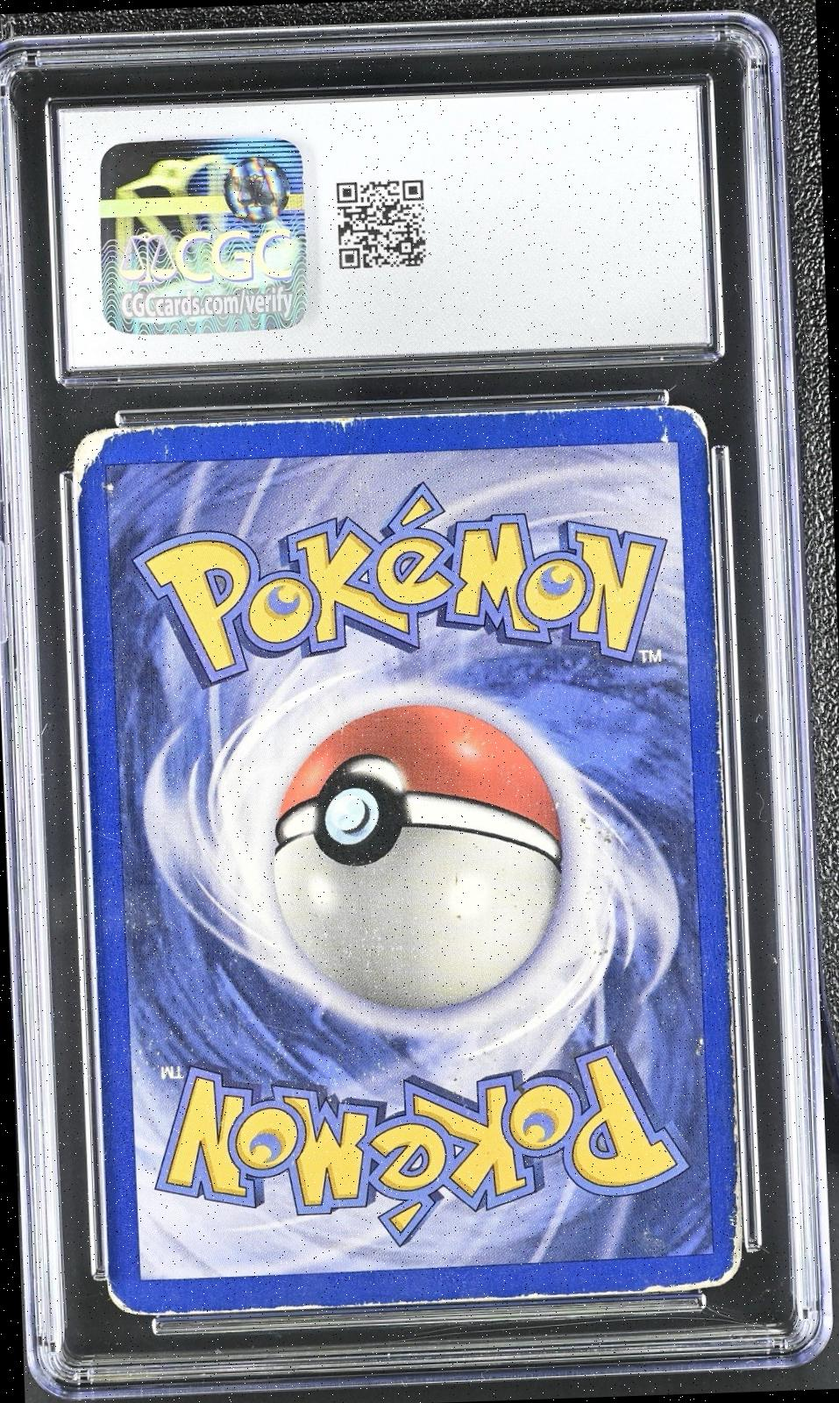card-2UtV: (71, 405, 741, 1316)
